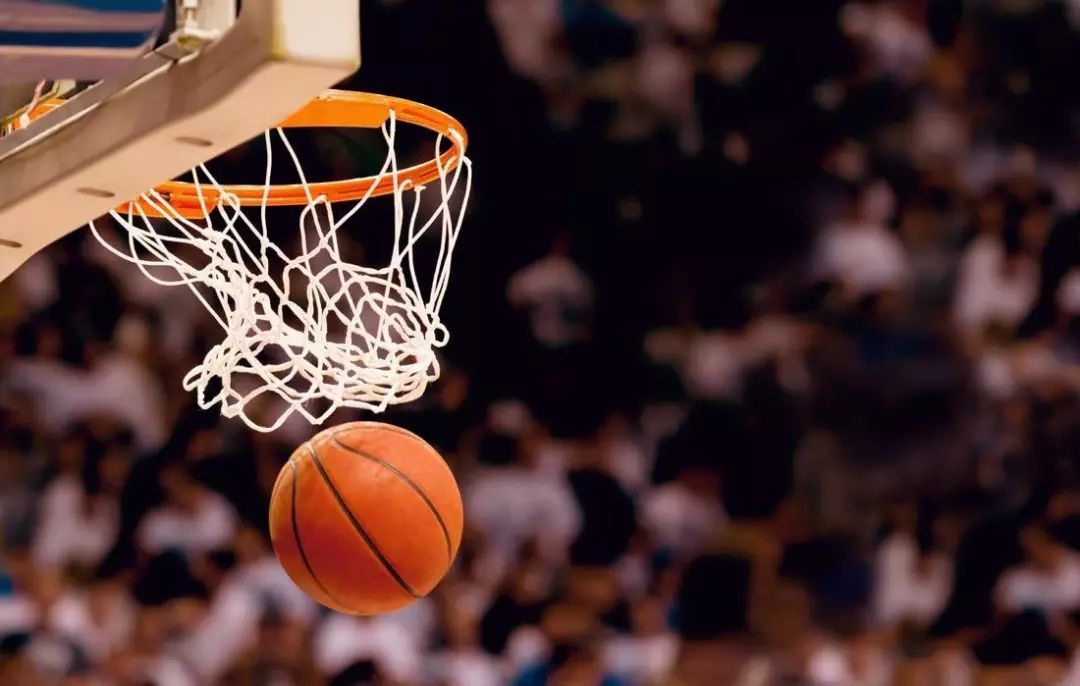ball: (268, 420, 463, 617)
